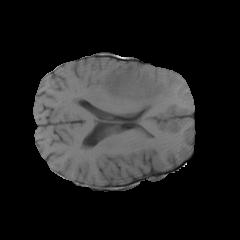glioma: (102, 63, 176, 111)
